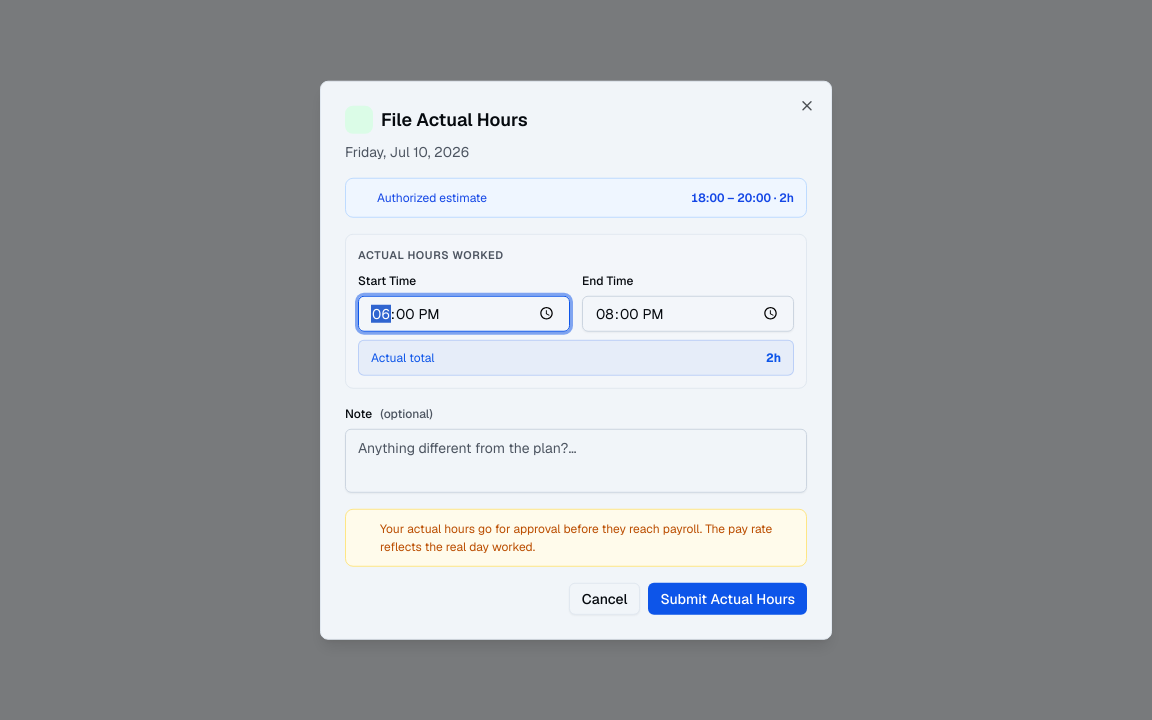
it: OvertimeClaimDialog — validation › editing the start time recomputes the actual total
The image size is (1152, 720).
Replace the text in the time field below "Start Time" with "19:00" at (464, 313), box [358,295,570,331]
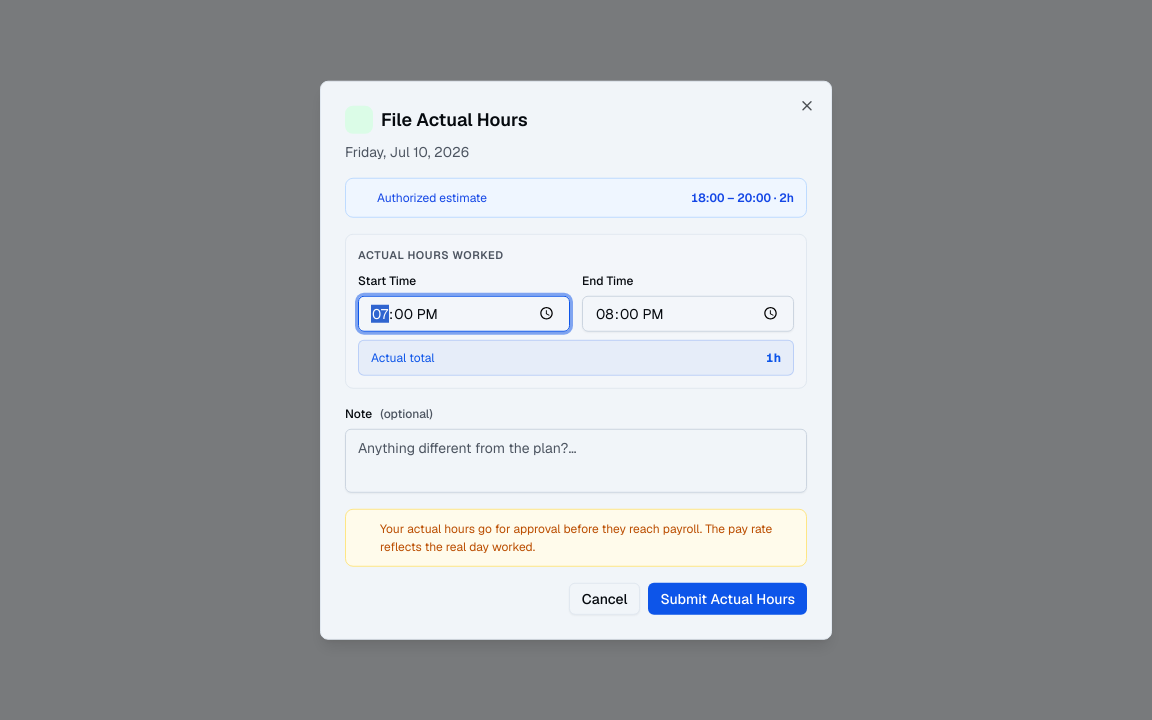
Replace the text in the time field below "End Time" with "22:00" at (688, 313), box [582,295,794,331]
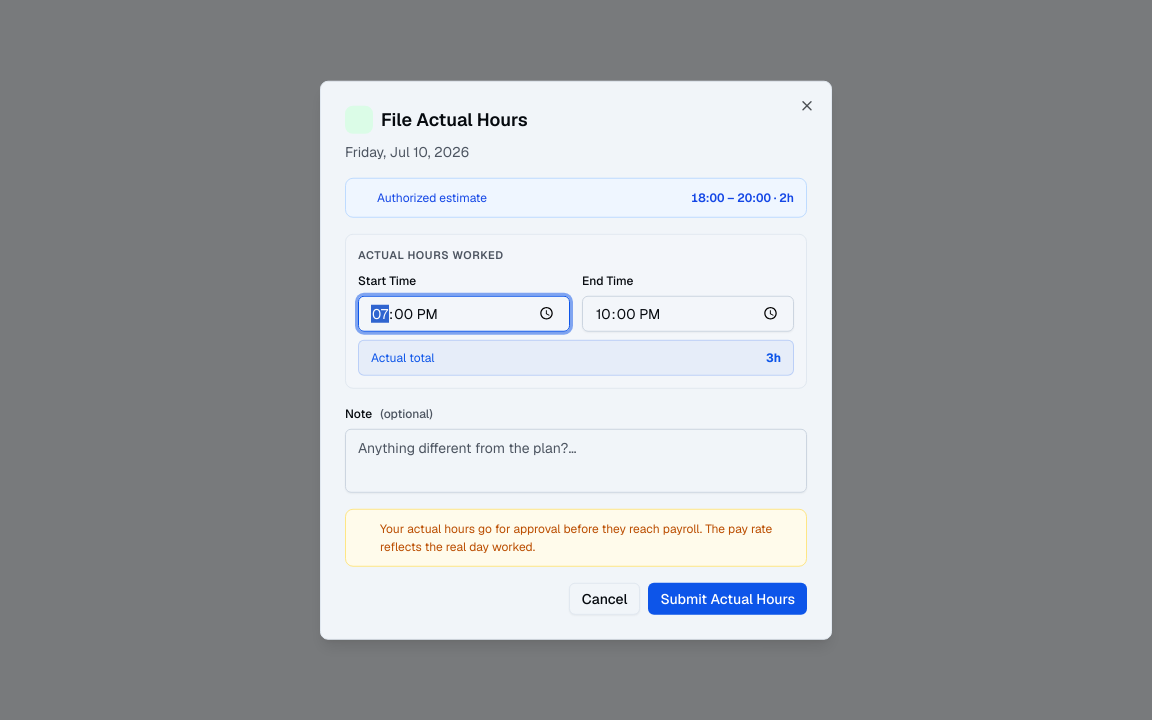
Check: the text "Actual total" is shown, box [371,348,434,366]
Check: the text "3h" is shown, box [766,348,781,366]
